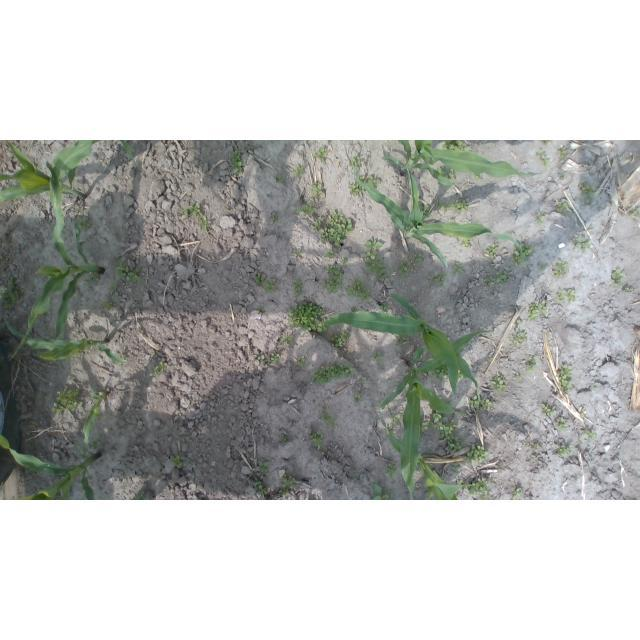Maize: (379, 328, 494, 500), (11, 160, 104, 361), (354, 166, 526, 269), (324, 291, 477, 394), (0, 141, 140, 204), (377, 412, 470, 501), (381, 140, 541, 188), (0, 434, 100, 500), (2, 315, 129, 364), (82, 392, 111, 465)
Weeds: (288, 300, 329, 333), (431, 411, 463, 452), (322, 210, 354, 249), (362, 237, 391, 280), (312, 361, 357, 386), (181, 203, 212, 232), (51, 389, 84, 415), (1, 277, 24, 312), (116, 258, 145, 283), (322, 264, 345, 294), (345, 278, 372, 300), (469, 477, 493, 500), (512, 242, 534, 266), (464, 444, 489, 465), (558, 364, 574, 394), (432, 200, 468, 213), (527, 300, 547, 321), (230, 150, 246, 175), (580, 181, 597, 204), (443, 140, 472, 153), (330, 329, 350, 347), (321, 409, 338, 429), (372, 484, 393, 500), (428, 272, 449, 288), (437, 167, 456, 184), (149, 362, 167, 379), (491, 374, 508, 392), (552, 260, 568, 279), (296, 200, 315, 216), (308, 431, 324, 450), (573, 236, 592, 252), (484, 244, 501, 261), (358, 176, 380, 189), (431, 366, 450, 381), (556, 288, 576, 302), (313, 146, 327, 165), (256, 460, 271, 477), (536, 148, 550, 165), (348, 183, 365, 197), (612, 268, 625, 286), (292, 276, 303, 297), (253, 479, 268, 494), (418, 204, 432, 220), (541, 403, 556, 417), (554, 417, 568, 432), (281, 474, 296, 488), (400, 261, 413, 277), (312, 182, 325, 198), (349, 154, 361, 171), (560, 444, 575, 457), (536, 212, 549, 227), (264, 278, 277, 293), (76, 216, 89, 230), (512, 333, 528, 344), (453, 261, 464, 277), (496, 272, 509, 285), (527, 356, 537, 372), (481, 397, 494, 409), (419, 421, 431, 434), (385, 464, 397, 477), (555, 201, 569, 212), (103, 296, 113, 311), (311, 218, 321, 233), (170, 455, 182, 467), (373, 351, 384, 364), (281, 333, 292, 346), (460, 238, 472, 249), (413, 252, 424, 264), (268, 354, 280, 365), (296, 355, 307, 367), (383, 427, 397, 436), (376, 400, 388, 410), (88, 272, 98, 284), (469, 395, 479, 407), (294, 164, 304, 176), (557, 147, 567, 159), (471, 171, 483, 181), (136, 492, 149, 501), (584, 430, 597, 439), (512, 487, 523, 497), (391, 415, 401, 426), (630, 206, 640, 216), (354, 394, 363, 405), (380, 303, 392, 311), (91, 440, 101, 449), (485, 276, 495, 285), (273, 174, 283, 183), (456, 369, 464, 380), (256, 273, 264, 284), (400, 336, 409, 345), (326, 249, 335, 258), (39, 391, 45, 403), (109, 283, 117, 292), (280, 433, 289, 441), (280, 489, 289, 496), (452, 464, 460, 471), (256, 305, 265, 311), (272, 212, 278, 221), (624, 287, 632, 293), (532, 443, 540, 449), (360, 377, 366, 384), (257, 355, 264, 361), (539, 263, 545, 269), (294, 251, 300, 257), (516, 374, 521, 381), (488, 354, 493, 360), (531, 456, 537, 461), (457, 480, 463, 485), (344, 259, 349, 265), (516, 320, 521, 325), (589, 388, 593, 392)
